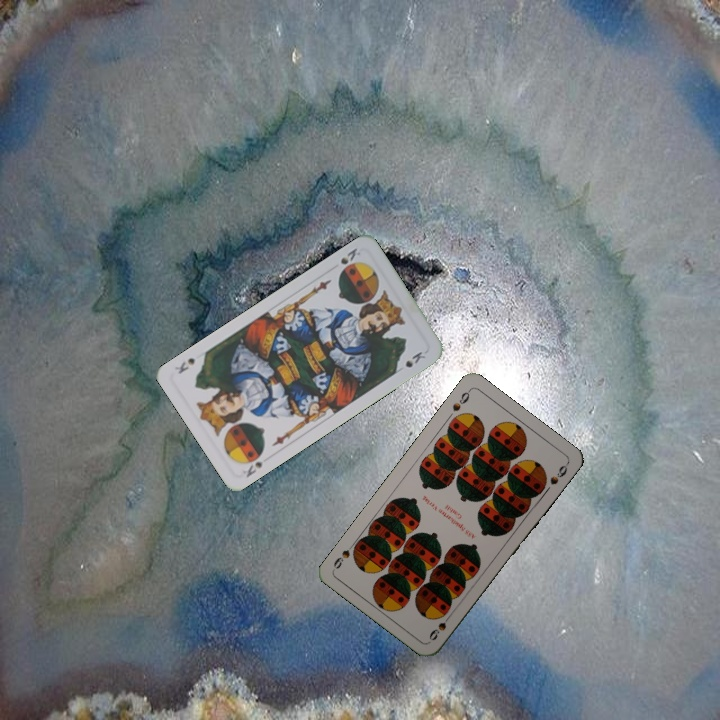S9: (425, 609, 455, 643), (448, 386, 473, 414)
SK: (239, 447, 267, 480), (336, 244, 363, 267)
